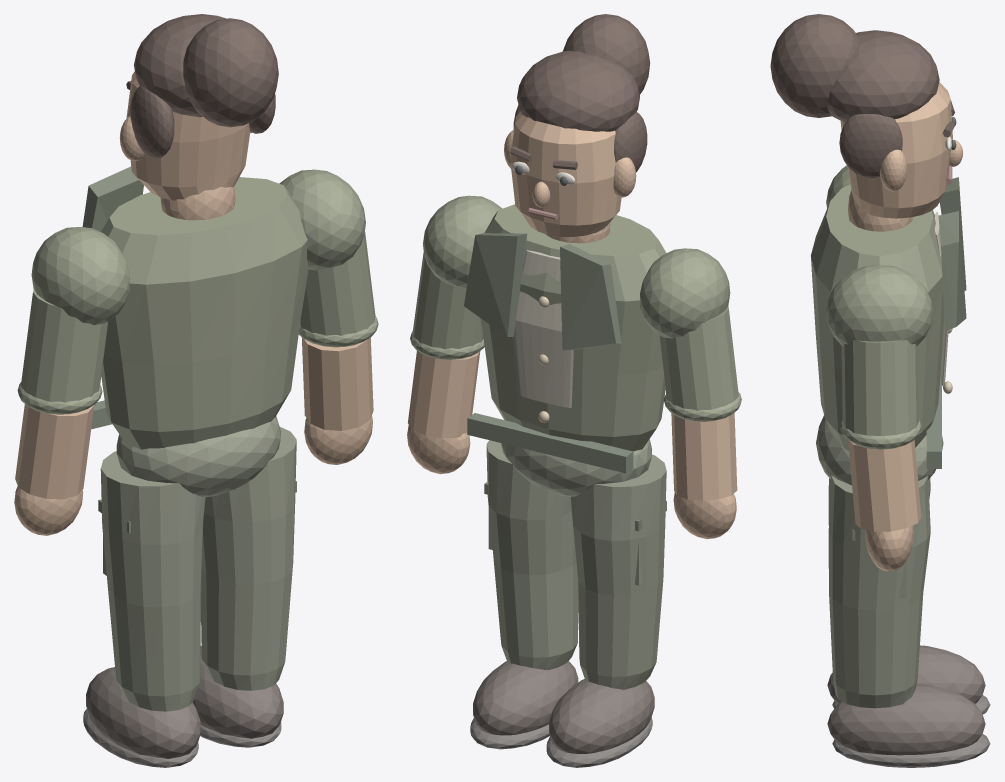
Rendered from olive_female.glb.
3 renders of one model, left to right at view 1: azimuth 30°, elevation 25°; view 2: azimuth 150°, elevation 25°; view 3: azimuth 270°, elevation 25°, orthographic. The views are drawn at different scales.
Parts seen in each view (by area): view 1: Body_Torso_002, LL_Pant_035, RL_Pant_042, Body_Bun_022, LA_Shoulder_025, Body_Pelvis_003, LA_Sleeve_026, Body_Face_010, LA_Forearm_028, RA_Forearm_033, LL_Sneaker_038, RA_Shoulder_030 (+13 smaller); view 2: Body_Torso_002, LL_Pant_035, RL_Pant_042, Body_Face_010, Body_HairCap_021, LA_Shoulder_025, LL_Sneaker_038, Body_Shirt_004, LA_Sleeve_026, RL_Sneaker_045, Body_Lapel_005, LA_Forearm_028 (+15 smaller); view 3: RL_Pant_042, Body_Torso_002, RL_Sneaker_045, Body_HairCap_021, RA_Sleeve_031, RA_Shoulder_030, Body_Face_010, Body_Bun_022, RA_Forearm_033, Body_SideHair_024, LL_Sneaker_038, Body_Lapel_006 (+10 smaller).
Boxes of the visible parts, x1,y1,x2,y2 form: Body_Torso_002: (101,177,308,449); LL_Pant_035: (100,451,205,711); RL_Pant_042: (201,427,296,690); Body_Bun_022: (183,18,278,127); LA_Shoulder_025: (31,227,129,325); Body_Pelvis_003: (116,416,280,497); LA_Sleeve_026: (21,289,108,402); Body_Face_010: (126,71,250,200); LA_Forearm_028: (15,404,94,499); RA_Forearm_033: (301,337,373,430); LL_Sneaker_038: (86,667,200,758); RA_Shoulder_030: (279,169,365,270); Body_Torso_002: (480,204,666,451); LL_Pant_035: (570,454,666,689); RL_Pant_042: (486,440,578,669); Body_Face_010: (510,111,621,236); Body_HairCap_021: (517,51,639,131); LA_Shoulder_025: (640,248,730,338); LL_Sneaker_038: (549,679,654,753); Body_Shirt_004: (514,250,573,407); LA_Sleeve_026: (659,306,738,410); RL_Sneaker_045: (473,661,578,735); Body_Lapel_005: (560,244,621,350); LA_Forearm_028: (671,412,737,500); RL_Pant_042: (828,476,930,708); Body_Torso_002: (811,184,944,450); RL_Sneaker_045: (827,684,985,755); Body_HairCap_021: (827,30,939,122); RA_Sleeve_031: (841,340,919,435); RA_Shoulder_030: (826,264,933,346); Body_Face_010: (840,82,952,218); Body_Bun_022: (770,14,859,117); RA_Forearm_033: (848,440,921,531); Body_SideHair_024: (839,114,902,178); LL_Sneaker_038: (827,645,985,704); Body_Lapel_006: (938,211,966,331).
Size of the model in its own units: 1.54 by 3.12 by 0.862.
